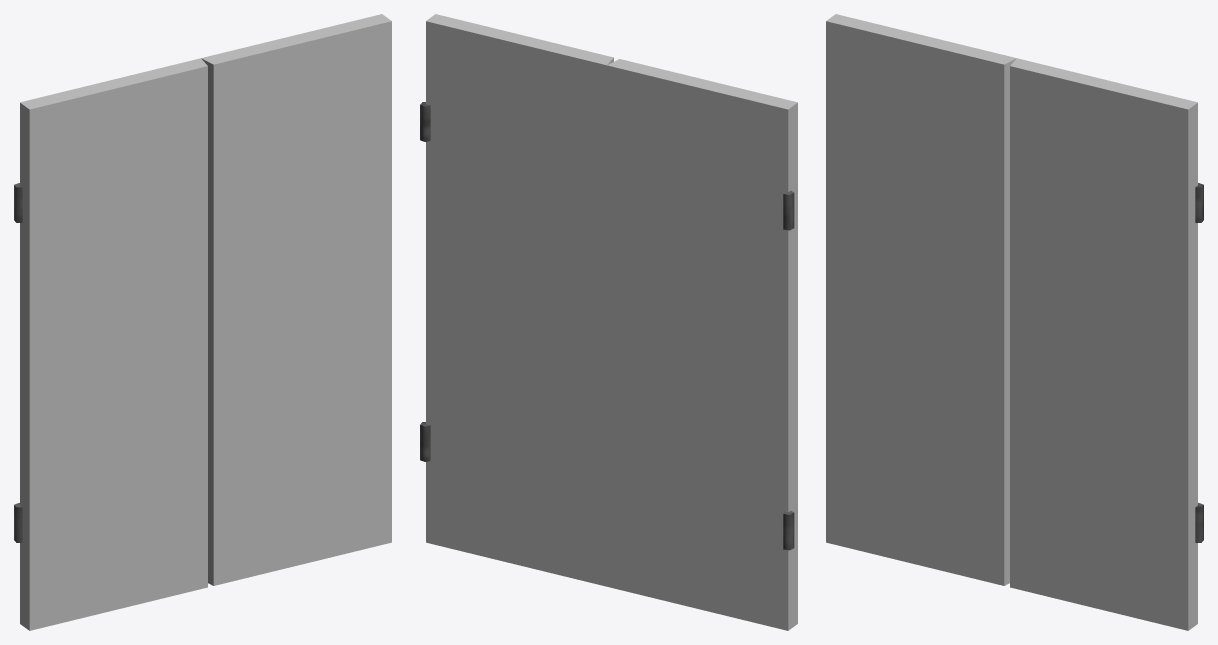
The model's file is MS_Shutters.fbx.
3 views of the same model, side by side, from view 1: azimuth 30°, elevation 25°; view 2: azimuth 150°, elevation 25°; view 3: azimuth 330°, elevation 25° (orthographic).
Visible parts, largest first — view 1: MSH_Shutter_L, MSH_Shutter_R; view 2: MSH_Shutter_L, MSH_Shutter_R; view 3: MSH_Shutter_R, MSH_Shutter_L.
Boxes of the visible parts, <box> form: MSH_Shutter_L: <box>14,58,207,630</box>; MSH_Shutter_R: <box>201,14,391,585</box>; MSH_Shutter_L: <box>607,59,797,630</box>; MSH_Shutter_R: <box>420,14,613,586</box>; MSH_Shutter_R: <box>1010,58,1203,630</box>; MSH_Shutter_L: <box>826,14,1016,585</box>.
Size of the model in its own units: 65.62 by 88 by 3.83.
